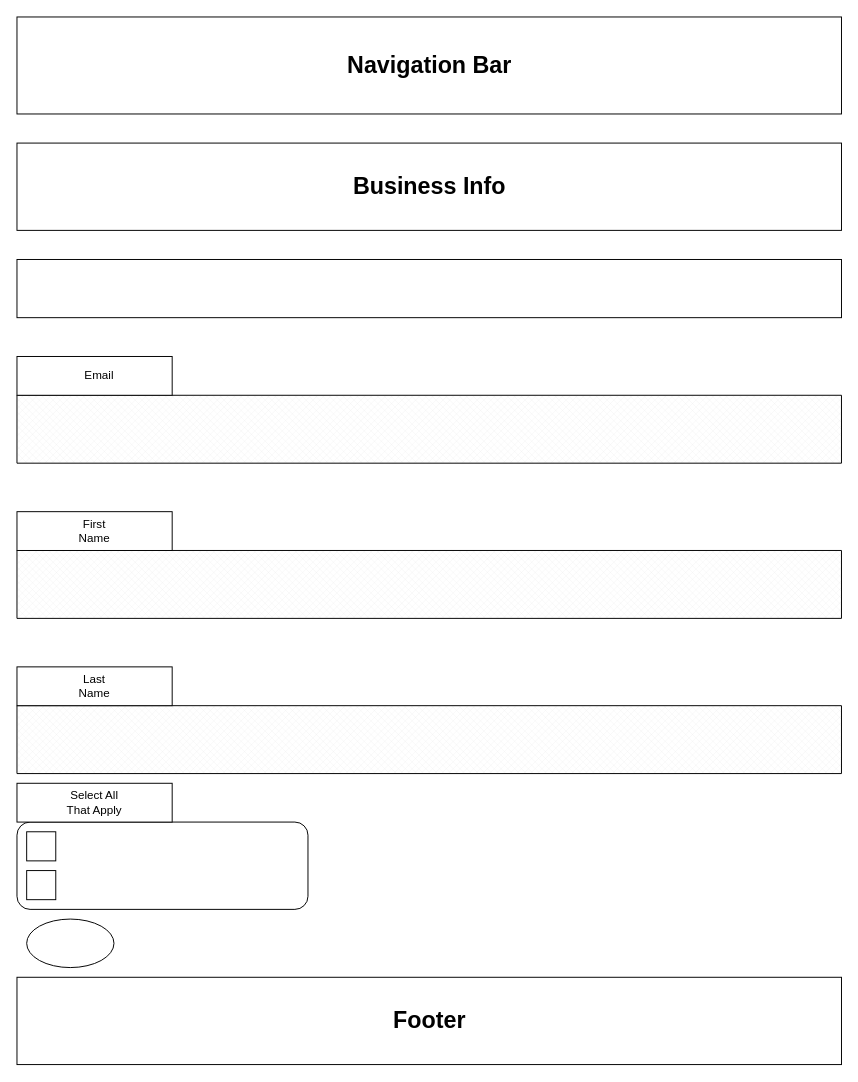
This 858x1082 diagram has some shape labels left out. The shapes that lost their labels are listed below. From the top down, each one's centre as x and y in pixels, then its label:
At (x=428, y=288): "Asked to Register".
At (x=70, y=943): "Submit".
